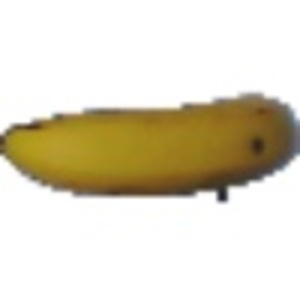banana: (4, 92, 294, 198)
